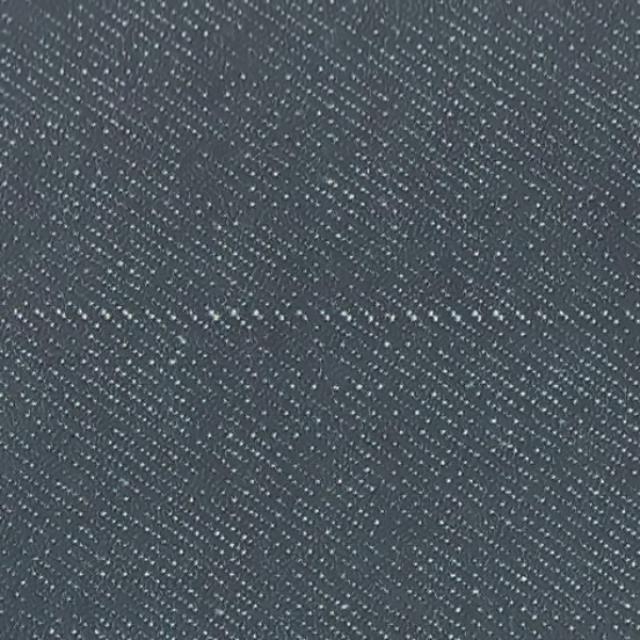stains: (15, 266, 640, 356)
